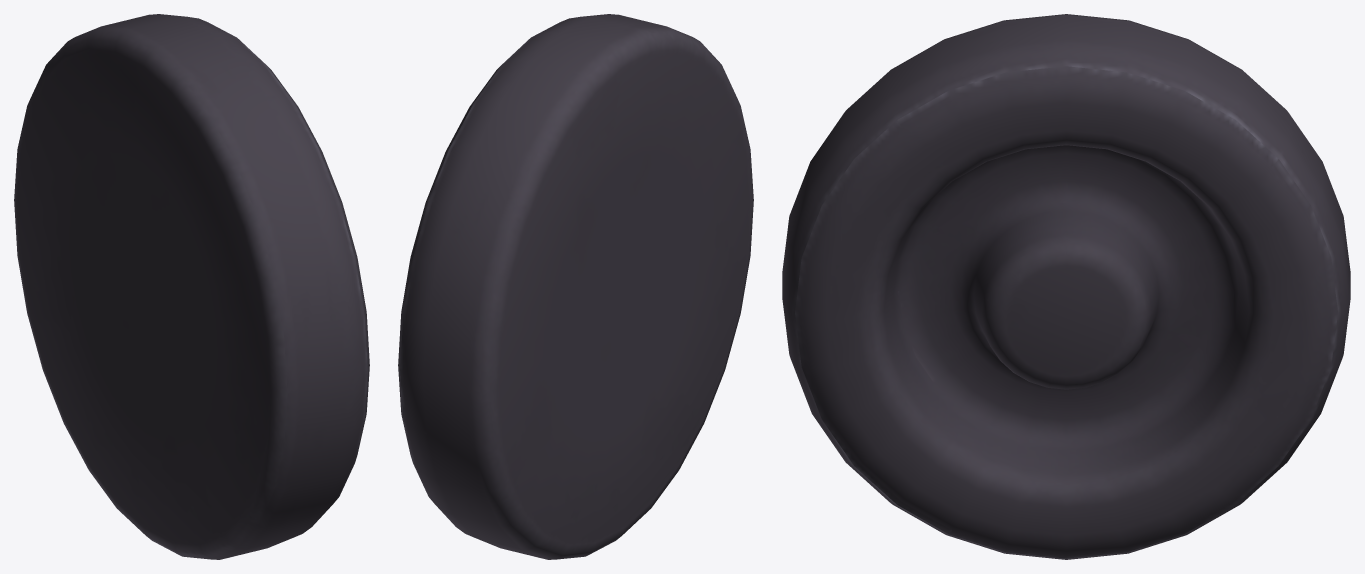
Rendered from wheel_big.glb.
The picture shows the model from 3 angles, left to right: view 1: azimuth 30°, elevation 25°; view 2: azimuth 150°, elevation 25°; view 3: azimuth 270°, elevation 25°; orthographic projection. The views are drawn at different scales.
Visible parts, largest first — view 1: wheel_big; view 2: wheel_big; view 3: wheel_big.
Part boxes in pixels (bbox=[...]): wheel_big: bbox=[14, 14, 369, 559]; wheel_big: bbox=[398, 14, 753, 559]; wheel_big: bbox=[782, 14, 1350, 559].
Size of the model in its own units: 0.2329 by 1 by 1.
Materials: 1 (1 with a texture image).
